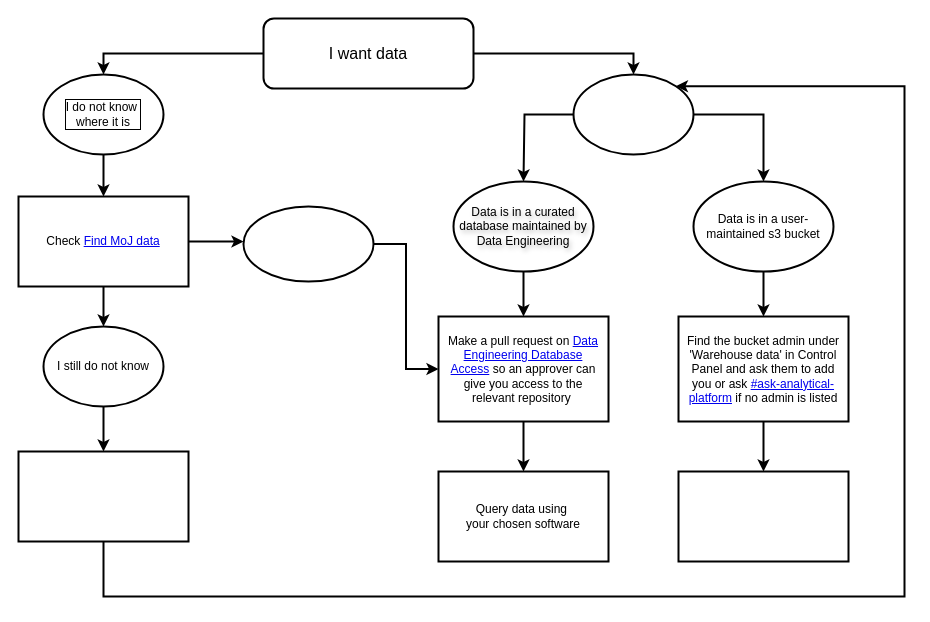
This 930x622 diagram has some shape labels left out. The box of each missing label's shape, as (x1, y1, x2, y2) in pixels:
Access data directly from R or Python: (677, 470, 849, 562)
Ask in #ask-data-engineering: (17, 450, 189, 542)
I know where it is: (572, 73, 694, 155)
I've found what I need: (242, 205, 374, 282)
